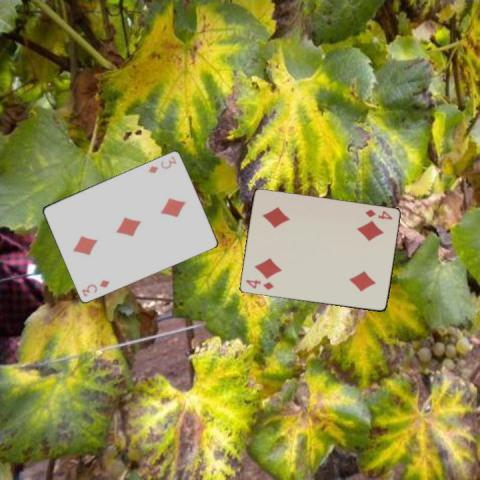3d: (145, 153, 178, 175), (78, 277, 110, 297)
4d: (362, 207, 394, 221), (243, 277, 274, 291)
